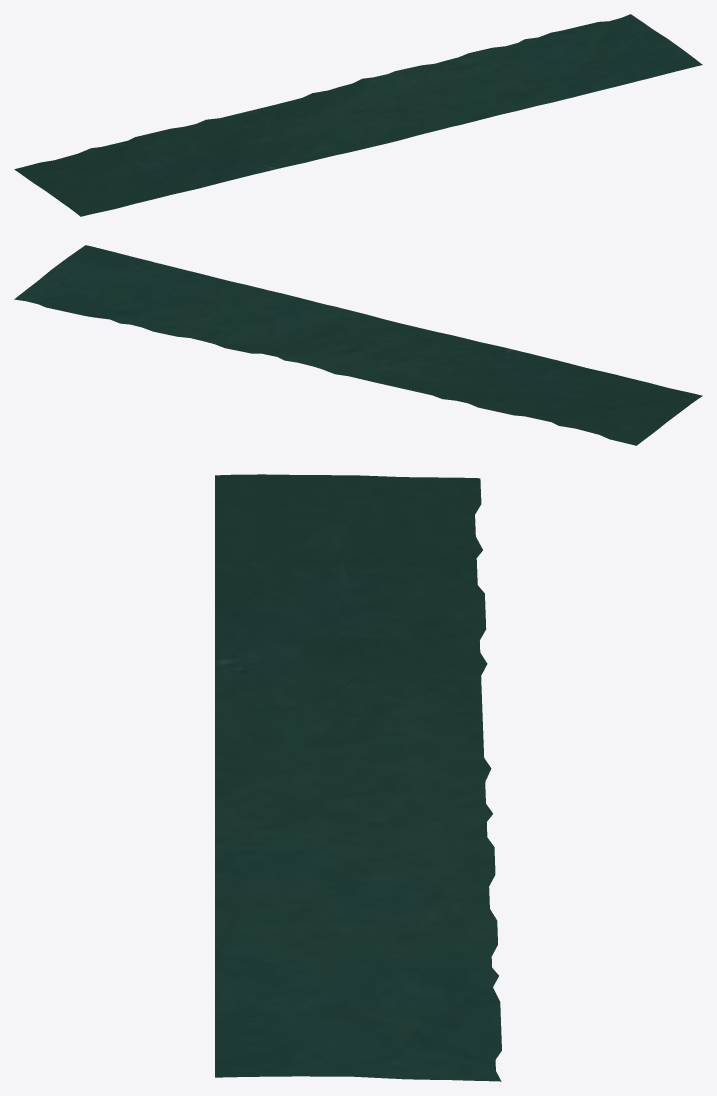
3 views of the same model, one above another, from view 1: azimuth 30°, elevation 25°; view 2: azimuth 150°, elevation 25°; view 3: azimuth 270°, elevation 25° (orthographic). The views are drawn at different scales.
Bounding box in the file's own units: 209 × 1.14 × 42.07.
1 material, 1 textured.
